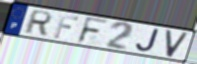2: (104, 21, 135, 52)
F: (75, 16, 111, 45), (52, 13, 81, 40)
J: (134, 28, 161, 53)
R: (22, 9, 55, 37)
V: (165, 29, 191, 59)
